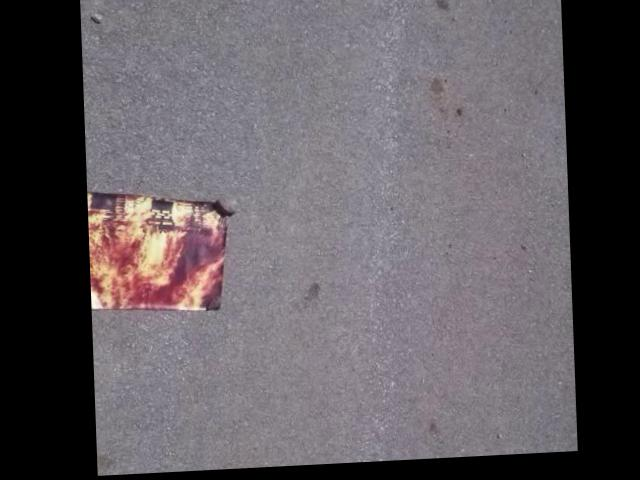fire-poster: (87, 183, 239, 320)
